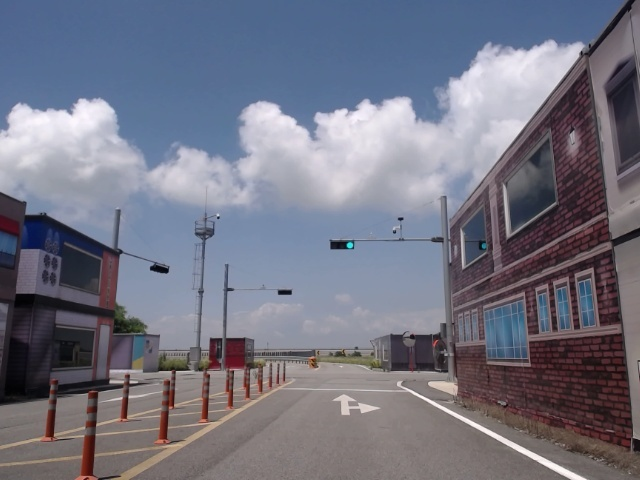green_3: (330, 241, 354, 248)
